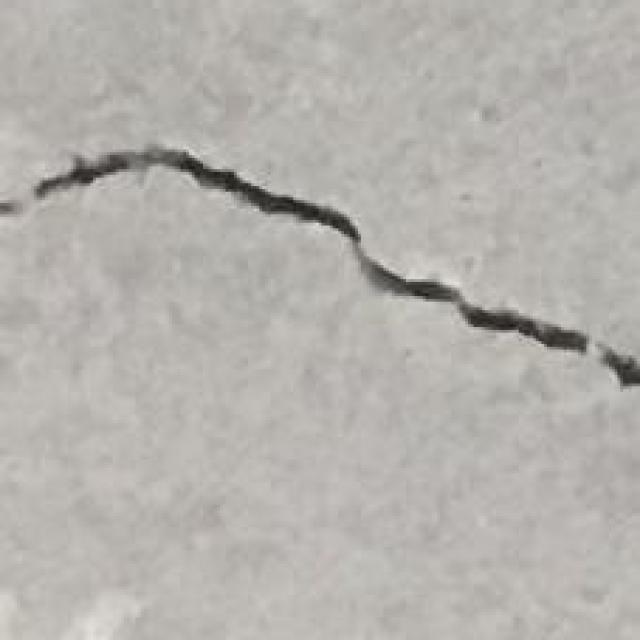Crack: (21, 144, 638, 390)
